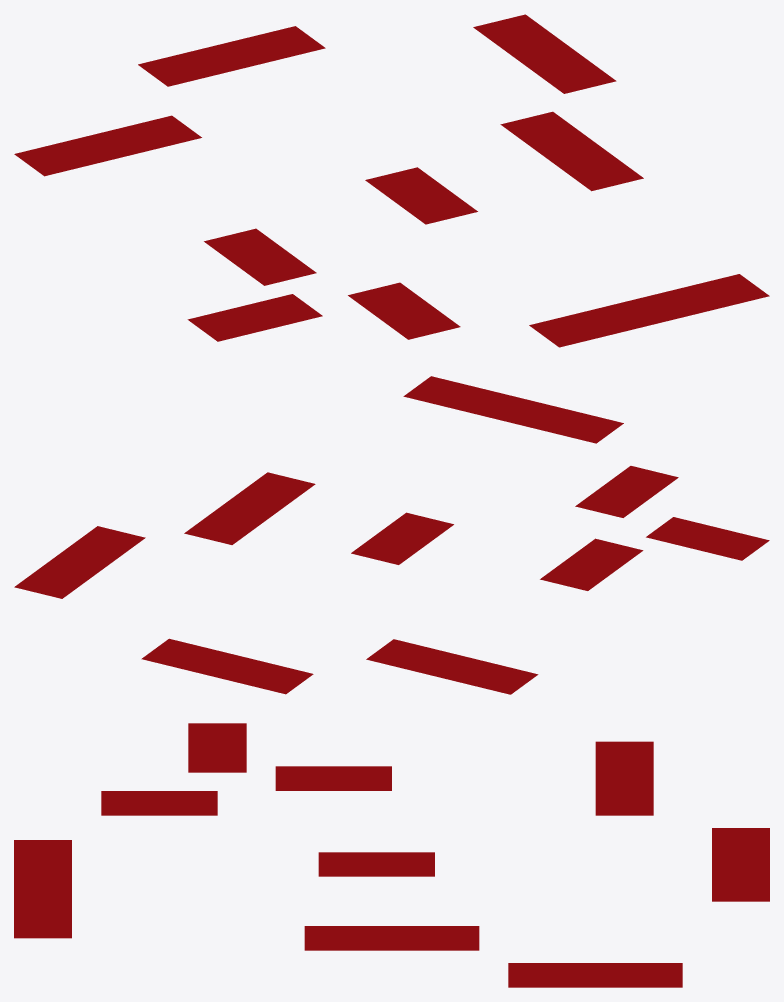
File: lvl2.fbx
3 views of the same model, one above another, from view 1: azimuth 30°, elevation 25°; view 2: azimuth 150°, elevation 25°; view 3: azimuth 270°, elevation 25° (orthographic). The views are drawn at different scales.
Visible parts, largest first — view 1: tours; view 2: tours; view 3: tours.
Part boxes in pixels (box(x1,y1,x2,y2)): tours: box(14, 14, 769, 347); tours: box(14, 376, 769, 694); tours: box(14, 723, 769, 987).
Bounding box in the file's own units: 10.75 × 13 × 0.
